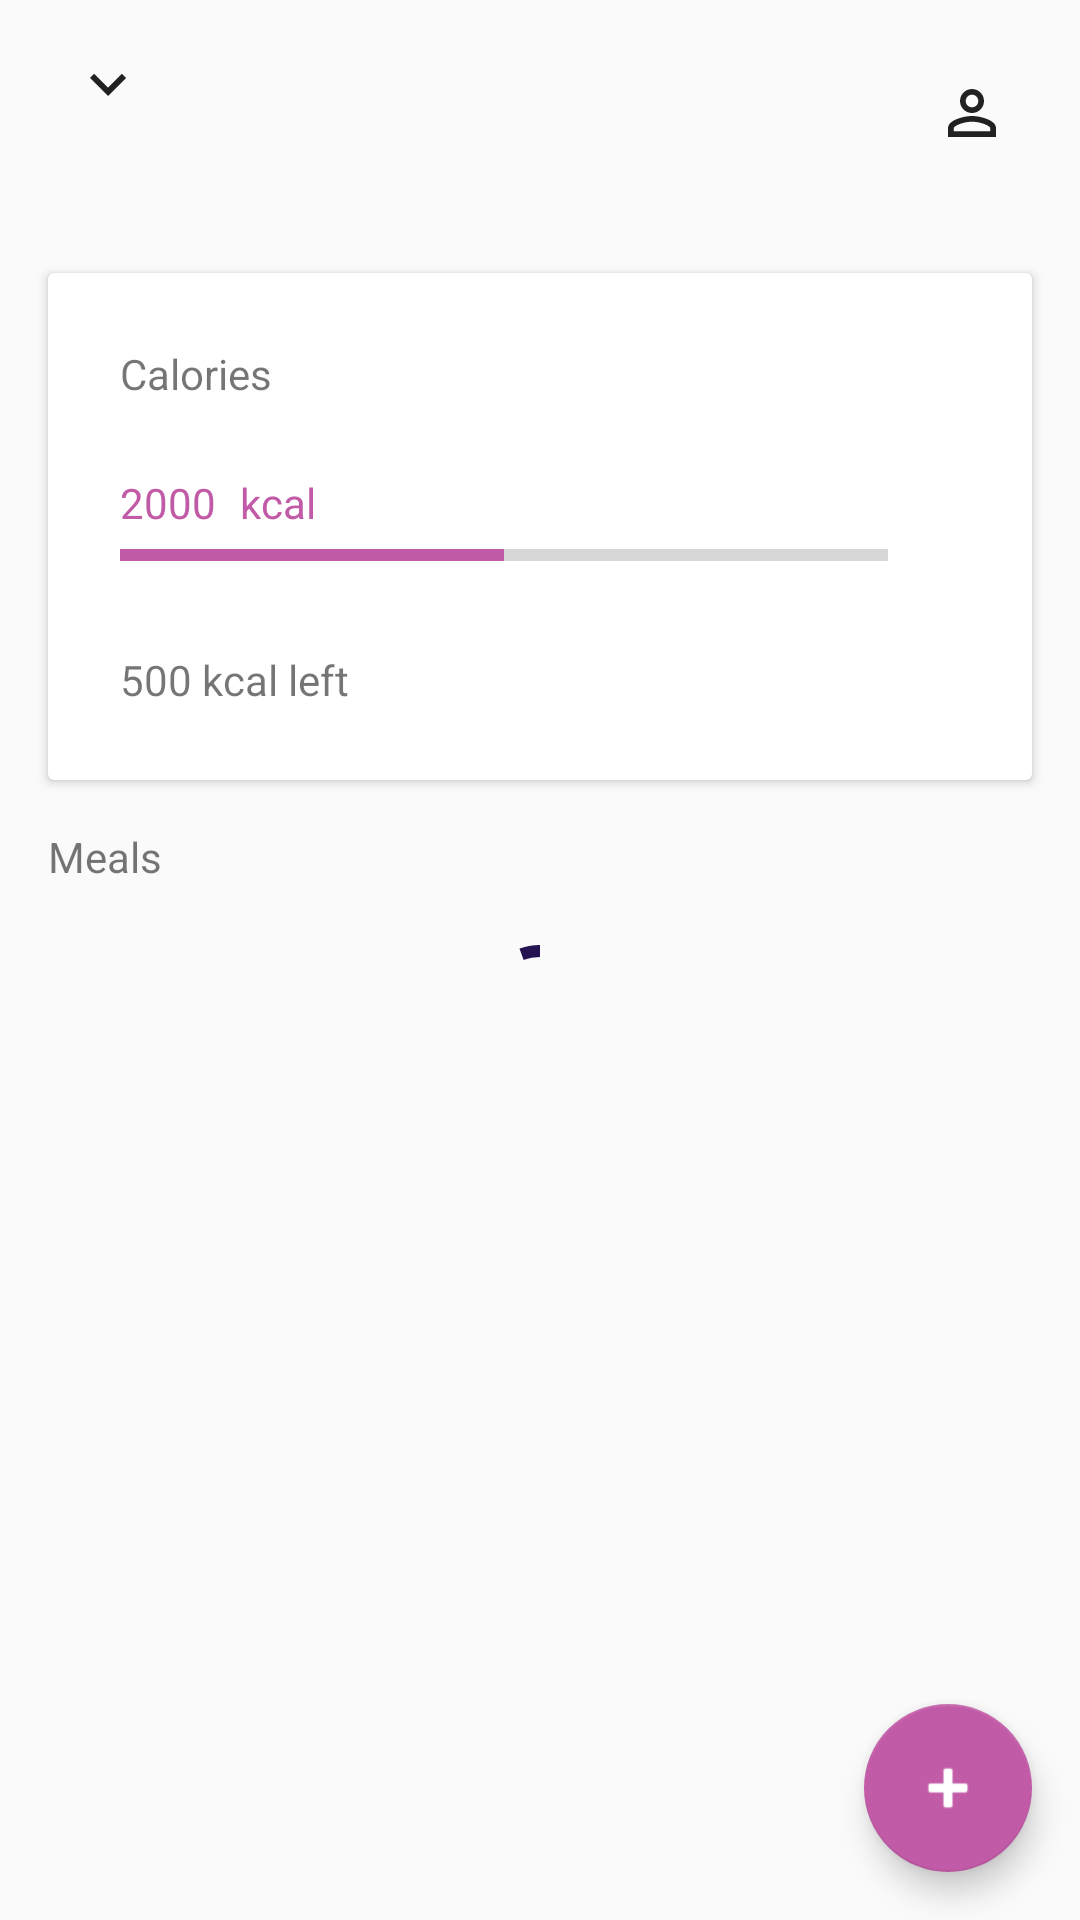

Where to tap for icons on this 1080x1920 app screen, as (x,y):
Button for opening add meal: (948,1788)
person: (972,113)
